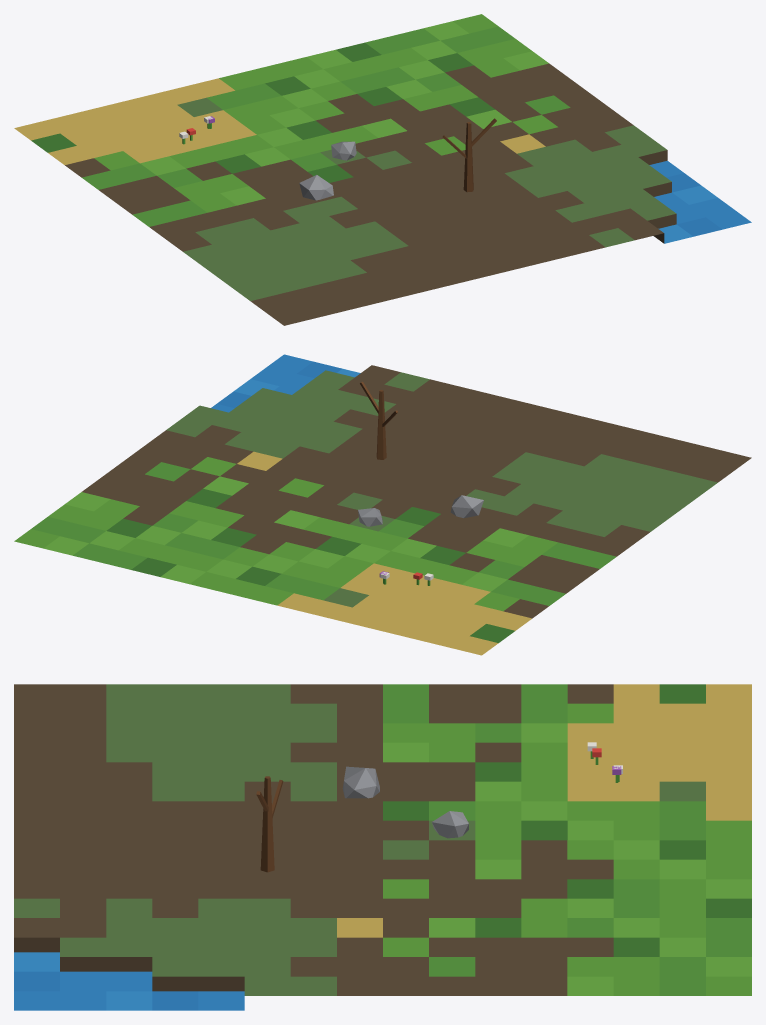
Rendered from chunk_2_14.glb.
3 renders of one model, top to bottom at view 1: azimuth 30°, elevation 25°; view 2: azimuth 150°, elevation 25°; view 3: azimuth 270°, elevation 25°, orthographic. The views are drawn at different scales.
Parts seen in each view (by area): view 1: chunk_2_14; view 2: chunk_2_14; view 3: chunk_2_14.
Part boxes in pixels (left/top/right/bottom): chunk_2_14: left=14, top=14, right=751, bottom=325; chunk_2_14: left=14, top=354, right=751, bottom=655; chunk_2_14: left=14, top=684, right=751, bottom=1010.
Size of the model in its own units: 16 by 2.58 by 16.
